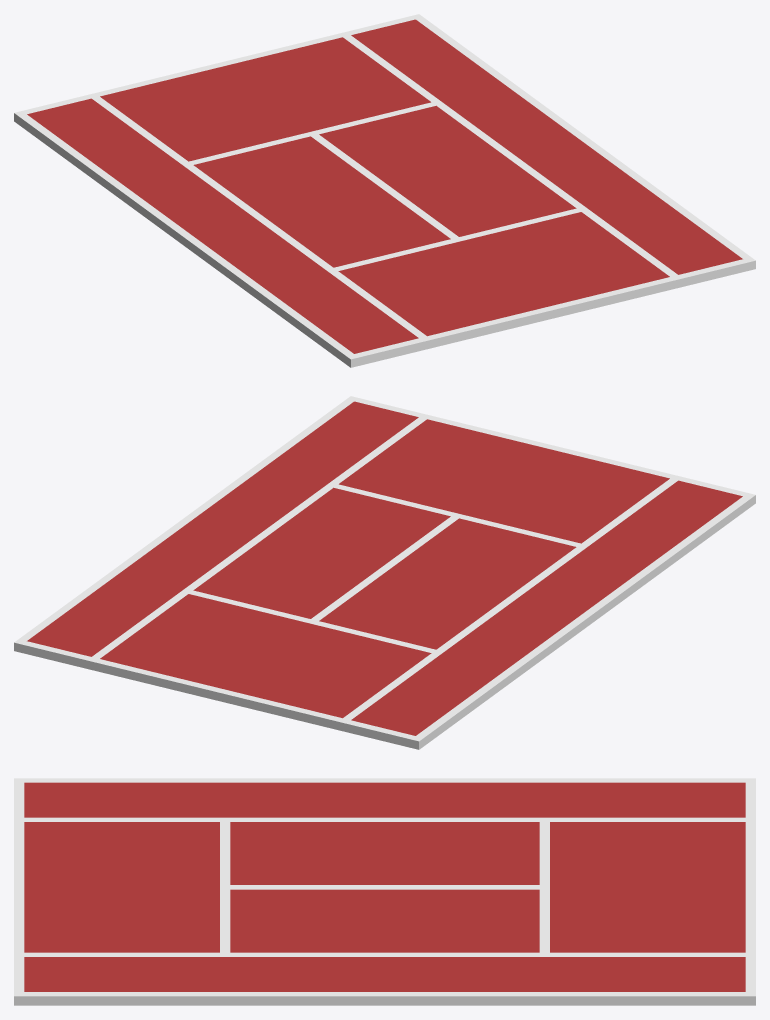
The model's file is Court8.fbx.
The picture shows the model from 3 angles, top to bottom: view 1: azimuth 30°, elevation 25°; view 2: azimuth 150°, elevation 25°; view 3: azimuth 270°, elevation 25°; orthographic projection. The views are drawn at different scales.
Visible parts, largest first — view 1: mergedBlocks; view 2: mergedBlocks; view 3: mergedBlocks.
Boxes of the visible parts, bbox=[...] form: mergedBlocks: bbox=[14, 14, 755, 367]; mergedBlocks: bbox=[14, 396, 755, 749]; mergedBlocks: bbox=[14, 778, 755, 1005].
Bounding box in the file's own units: 50 × 1 × 72.
